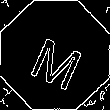M_NE: (24, 23, 86, 87)
